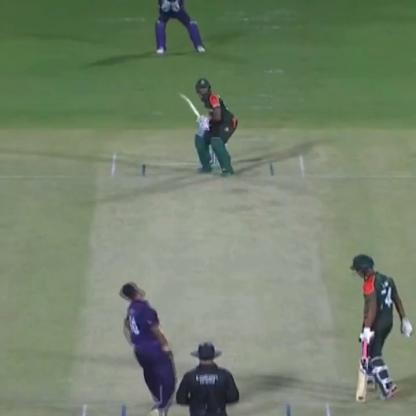bat: (173, 82, 212, 134)
pitch: (61, 145, 362, 416)
